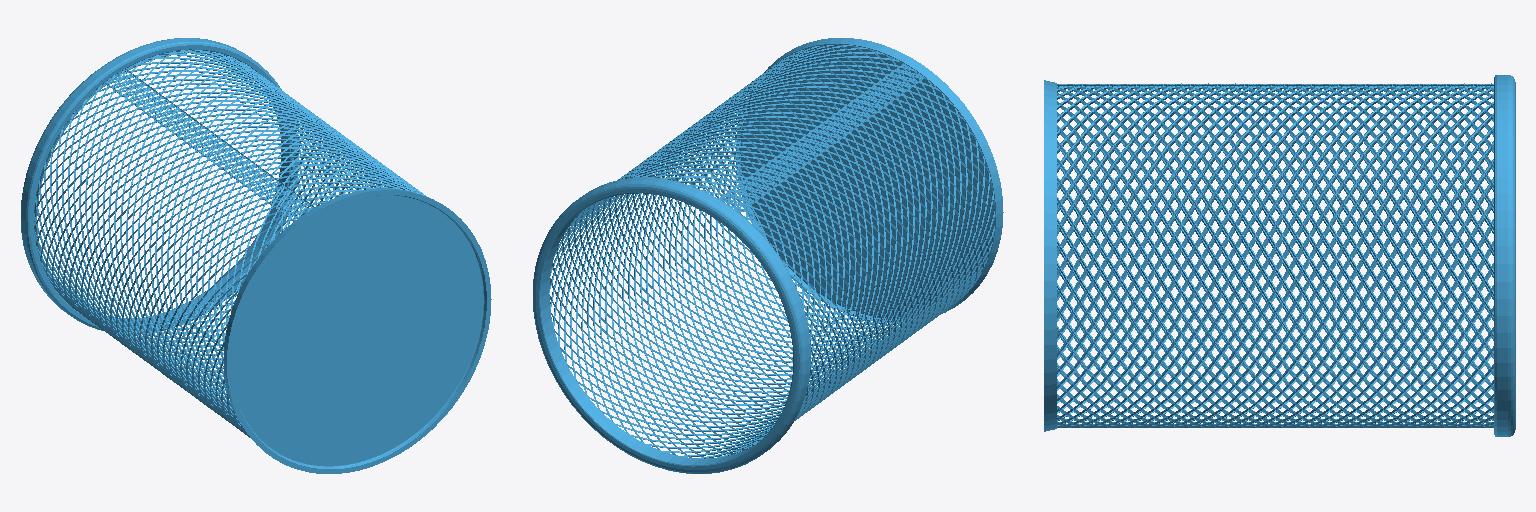
The robot description file, URDF, robot "partnet_c3bb5f3c842a6c2d178e7d331e641179":
<?xml version="1.0" ?>
<robot name="partnet_c3bb5f3c842a6c2d178e7d331e641179">
	<link name="pen_holder_base"/>
	<link name="pen_holder">
		<visual name="door_frame-6">
			<origin xyz="0 0 0 "/>
			<geometry>
				<mesh filename="pen_holder.obj"/>
			</geometry>
		</visual>
		<collision>
			<origin xyz="0 0 0 "/>
			<geometry>
				<mesh filename="pen_holder_collision.obj"/>
			</geometry>
		</collision>
	</link>	
  <joint name="joint_0" type="fixed">
		<origin xyz="0 0 0"/>
		<axis xyz="0 0 0"/>
		<child link="pen_holder_base"/>
		<parent link="pen_holder"/>
	</joint>

</robot>

--- Render facts (derived) ---
The picture shows the robot from 3 angles, left to right: view 1: azimuth 30°, elevation 25°; view 2: azimuth 150°, elevation 25°; view 3: azimuth 270°, elevation 25°; orthographic projection.
Model partnet_c3bb5f3c842a6c2d178e7d331e641179 with 2 links and 1 joints (1 fixed), rooted at pen_holder, posed all joints at 0.
Visible links, largest first — view 1: pen_holder; view 2: pen_holder; view 3: pen_holder.
Link boxes in pixels (box(x1,y1,x2,y2)): pen_holder: box(21, 38, 491, 473); pen_holder: box(533, 38, 1003, 473); pen_holder: box(1044, 75, 1515, 436).
Bounding box of the posed robot: 0.165 × 0.2141 × 0.165 m (x, y, z).
1 mesh visuals loaded from 1 distinct referenced files (1 OBJ).